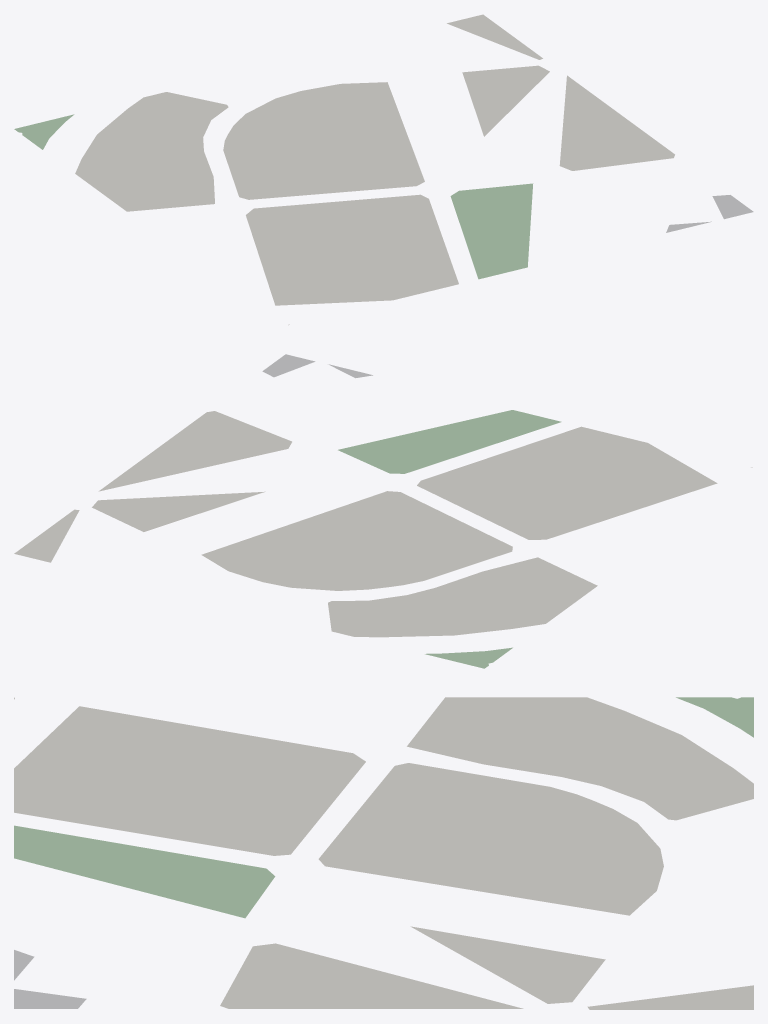
The model's file is 103_113_mid.glb.
The picture shows the model from 3 angles, top to bottom: view 1: azimuth 30°, elevation 25°; view 2: azimuth 150°, elevation 25°; view 3: azimuth 270°, elevation 25°; orthographic projection. The views are drawn at different scales.
Bounding box in the file's own units: 500 × 1.28 × 500.
